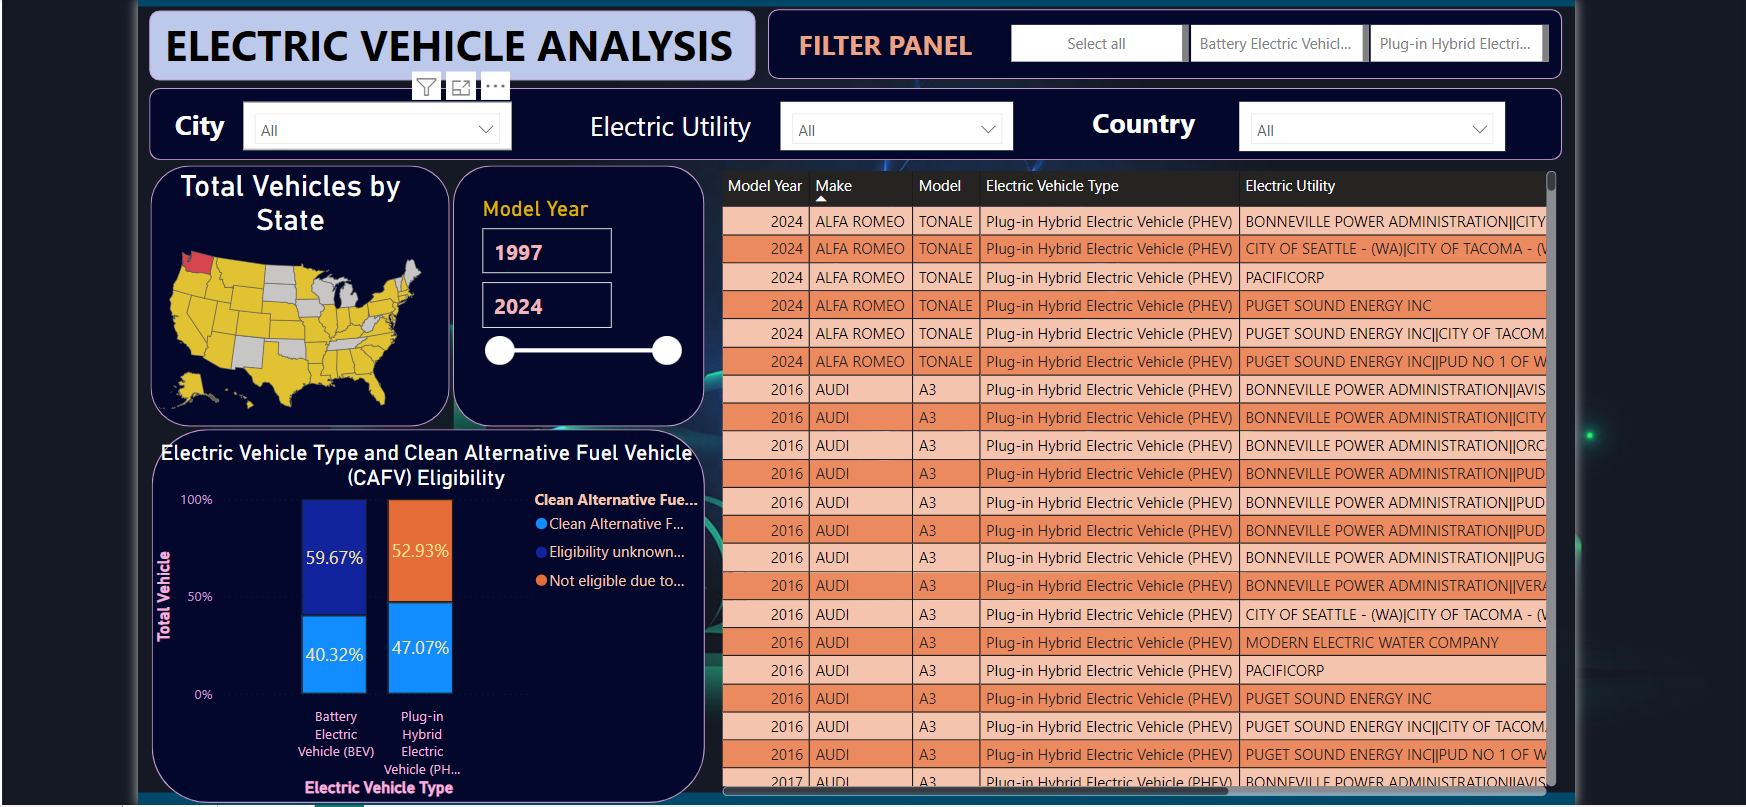

Layout of this report page (visuals, bound fields, positions):
{"tool":"powerbi","page":{"name":"Page 2","canvas":[1280,720],"ordinal":1},"visuals":[{"type":"shape","box":[9.9,11.3,540,62.4],"z":0},{"type":"textbox","box":[18.4,11.3,524.4,63.8],"z":1000},{"type":"shape","box":[11.9,383.6,492.5,332.8],"z":2000},{"type":"shape","box":[11.3,148.8,266.5,232.4],"z":3000},{"type":"shape","box":[10.4,80.6,1258.2,64.2],"z":4000},{"type":"textbox","box":[28.4,91,65.7,44.8],"z":5000},{"type":"slicer","fields":{"Values":["Electric_Vehicle_Population_Data.Electric Utility"]},"box":[571.6,92.5,207.5,43.3],"z":6000},{"type":"textbox","box":[397,92.5,213.4,44.8],"z":7000},{"type":"slicer","fields":{"Values":["Electric_Vehicle_Population_Data.City"]},"box":[94,92.5,238.8,43.3],"z":8000},{"type":"shape","box":[561,10.1,707.2,62.2],"z":9000},{"type":"shapeMap","title":"Total Vehicles by State","fields":{"Category":["Electric_Vehicle_Population_Data.State"],"Value":["Electric_Vehicle_Population_Data.Total Vehicle"]},"box":[1.4,151.7,269.3,232.4],"z":10000},{"type":"hundredPercentStackedColumnChart","title":"Electric Vehicle Type and Clean Alternative Fuel Vehicle (CAFV) Eligibility","fields":{"Y":["Electric_Vehicle_Population_Data.Total Vehicle"],"Category":["Electric_Vehicle_Population_Data.Electric Vehicle Type"],"Series":["Electric_Vehicle_Population_Data.Clean Alternative Fuel Vehicle (CAFV) Eligibility"]},"box":[10.4,394,494,322.4],"z":11000},{"type":"tableEx","fields":{"Values":["Electric_Vehicle_Population_Data.Model Year","Electric_Vehicle_Population_Data.Make","Electric_Vehicle_Population_Data.Model","Electric_Vehicle_Population_Data.Electric Vehicle Type","Electric_Vehicle_Population_Data.Electric Utility"]},"box":[514.5,148.8,754,566.9],"z":13000},{"type":"textbox","box":[582.9,20.2,186.5,45.4],"z":14000},{"type":"slicer","fields":{"Values":["Electric_Vehicle_Population_Data.Electric Vehicle Type"]},"box":[751.2,17,528.7,46.8],"z":15000},{"type":"textbox","box":[844.7,90.7,116.2,45.4],"z":16000},{"type":"slicer","fields":{"Values":["Electric_Vehicle_Population_Data.County"]},"box":[980.8,92.1,236.7,43.9],"z":17000},{"type":"shape","box":[280.6,148.8,223.9,232.4],"z":18000},{"type":"slicer","fields":{"Values":["Electric_Vehicle_Population_Data.Model Year"]},"box":[293.4,171.5,198.4,188.5],"z":19000}]}

Visuals, with their boxes on the page's 1280x720 design canvas (x1, y1, x2, y2). These are canvas units, not pixel positions in the 1746x807 screenshot, which may show the page scaled, cropped or inside an application window:
shape: x1=10 y1=11 x2=550 y2=74
textbox: x1=18 y1=11 x2=543 y2=75
shape: x1=12 y1=384 x2=504 y2=716
shape: x1=11 y1=149 x2=278 y2=381
shape: x1=10 y1=81 x2=1269 y2=145
textbox: x1=28 y1=91 x2=94 y2=136
slicer - Electric_Vehicle_Population_Data.Electric Utility: x1=572 y1=92 x2=779 y2=136
textbox: x1=397 y1=92 x2=610 y2=137
slicer - Electric_Vehicle_Population_Data.City: x1=94 y1=92 x2=333 y2=136
shape: x1=561 y1=10 x2=1268 y2=72
"Total Vehicles by State" shapeMap: x1=1 y1=152 x2=271 y2=384
"Electric Vehicle Type and Clean Alternative Fuel Vehicle (CAFV) Eligibility" hundredPercentStackedColumnChart: x1=10 y1=394 x2=504 y2=716
tableEx - Electric_Vehicle_Population_Data.Model Year x Electric_Vehicle_Population_Data.Make: x1=514 y1=149 x2=1268 y2=716
textbox: x1=583 y1=20 x2=769 y2=66
slicer - Electric_Vehicle_Population_Data.Electric Vehicle Type: x1=751 y1=17 x2=1280 y2=64
textbox: x1=845 y1=91 x2=961 y2=136
slicer - Electric_Vehicle_Population_Data.County: x1=981 y1=92 x2=1218 y2=136
shape: x1=281 y1=149 x2=504 y2=381
slicer - Electric_Vehicle_Population_Data.Model Year: x1=293 y1=172 x2=492 y2=360
